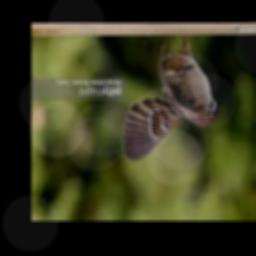Sparrow: (123, 35, 225, 163)
